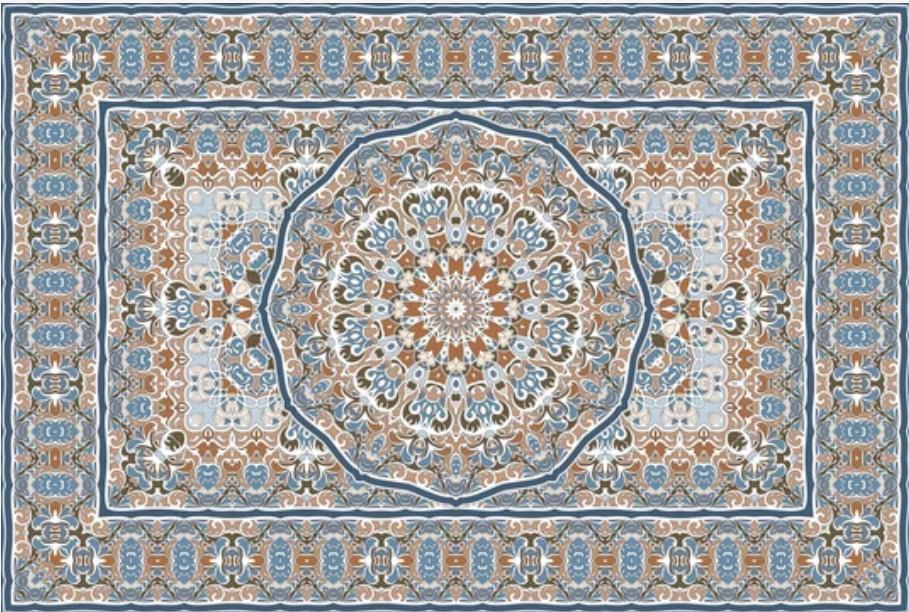carpet: (2, 7, 909, 605)
